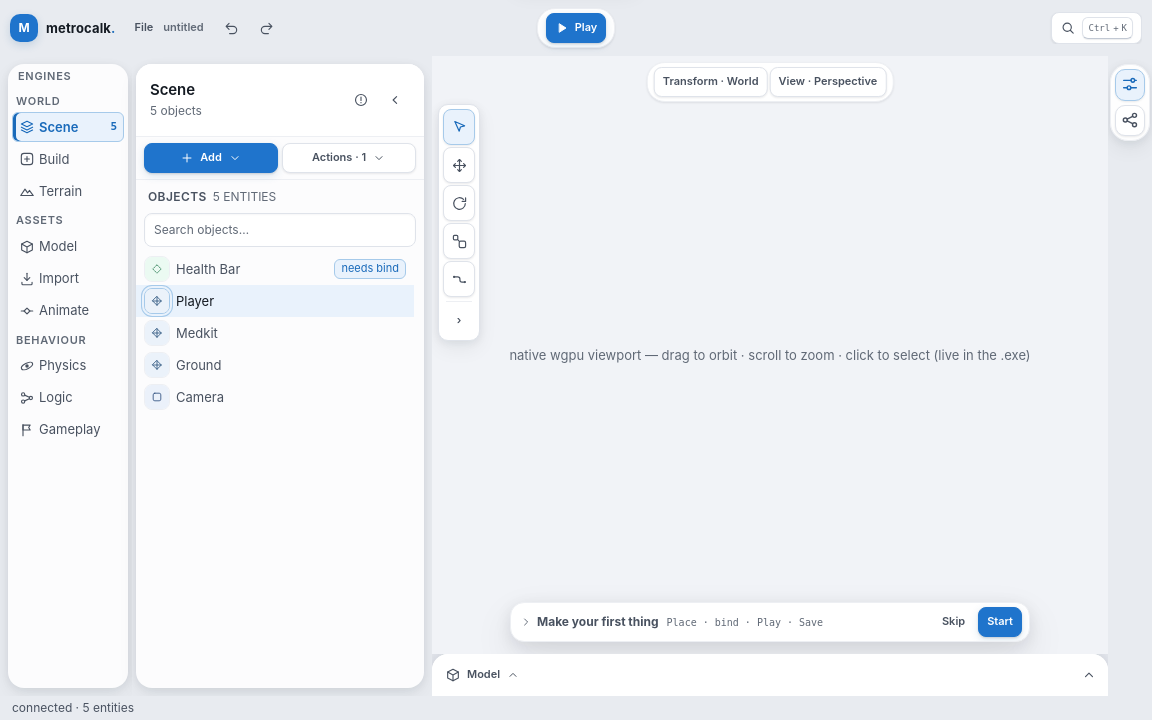
Scenario: editor app — end-to-end wiring › projects the first-run SAMPLE scene (named, not the 5k fixture) and renders an inspector form on select
Click the button with test id "rail-right-properties". click: click(1130, 85)
box: [1115,69,1145,101]
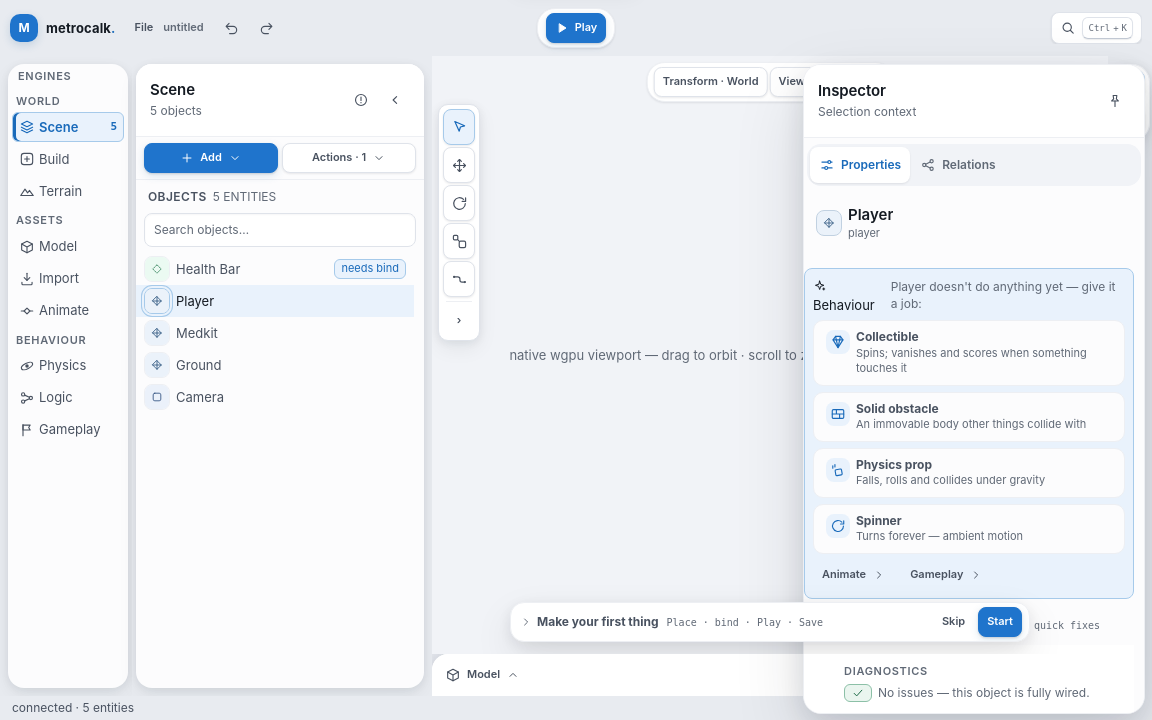
Expected: the element with id "inspector" shows "Player", [848,205,893,224]
